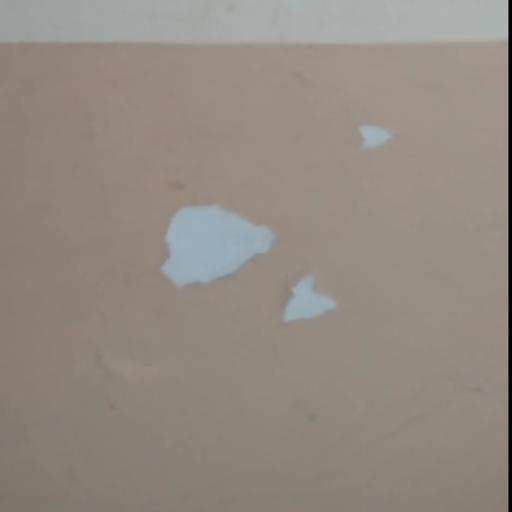peeling: (147, 196, 283, 304), (268, 260, 350, 334), (355, 111, 402, 161)
